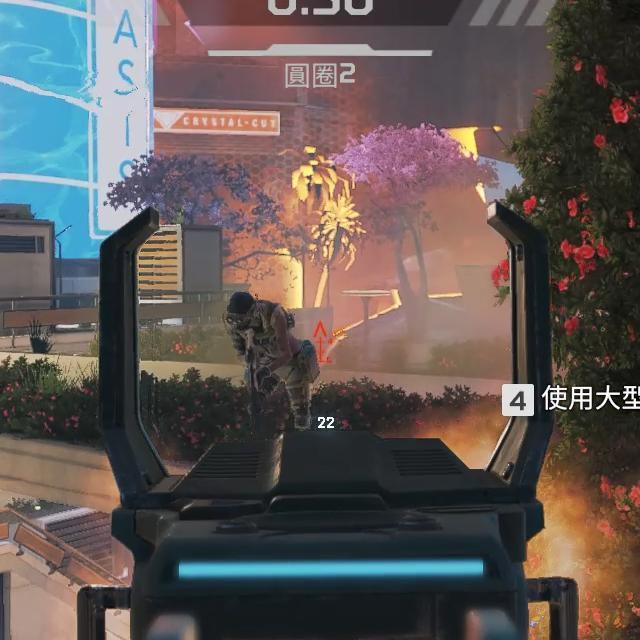avatar: (222, 288, 322, 432)
